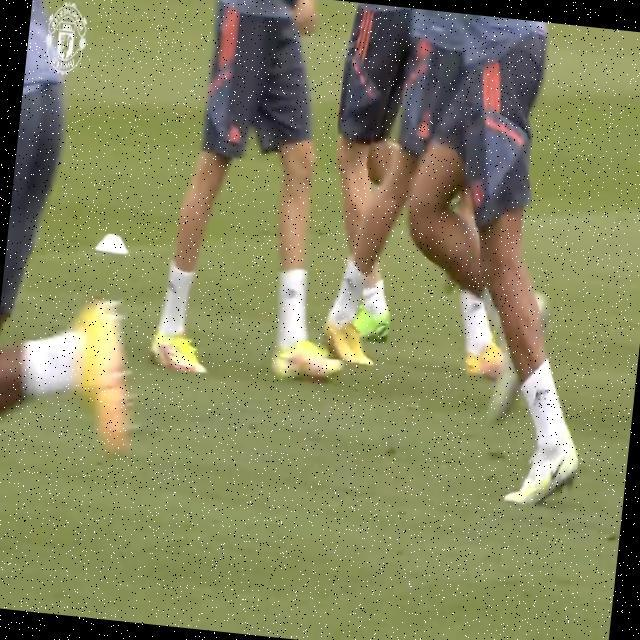Adidas: (531, 383, 551, 409)
